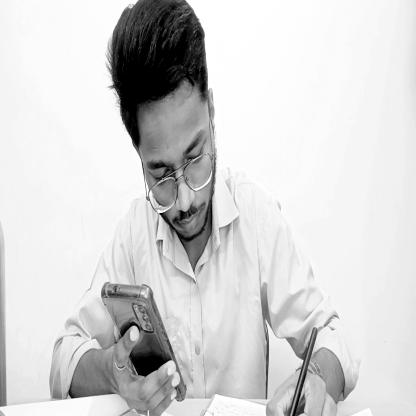Distracted: (109, 0, 219, 244)
